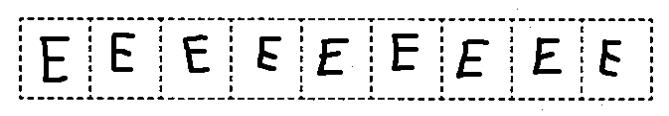E: (34, 33, 72, 88), (104, 26, 140, 79), (310, 34, 353, 78), (454, 34, 492, 82), (178, 31, 216, 77), (526, 33, 564, 77), (249, 31, 285, 77), (387, 29, 423, 74), (595, 33, 627, 83)
